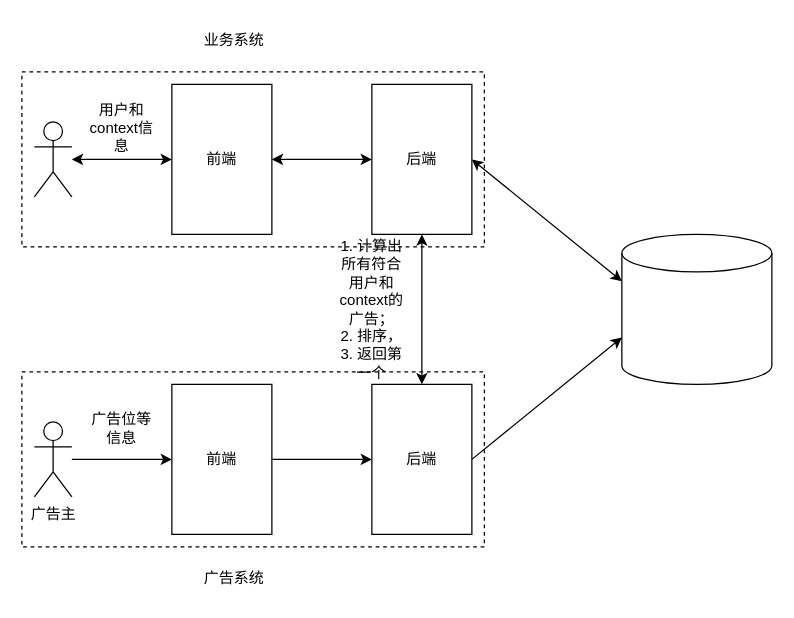
Image size: 794x618. Some labels were removed from this diagram. The centre of each missing label's shape, as x and y in pixels:
"数据库" goes at point 696,308.
"用户" goes at point 52,159.
